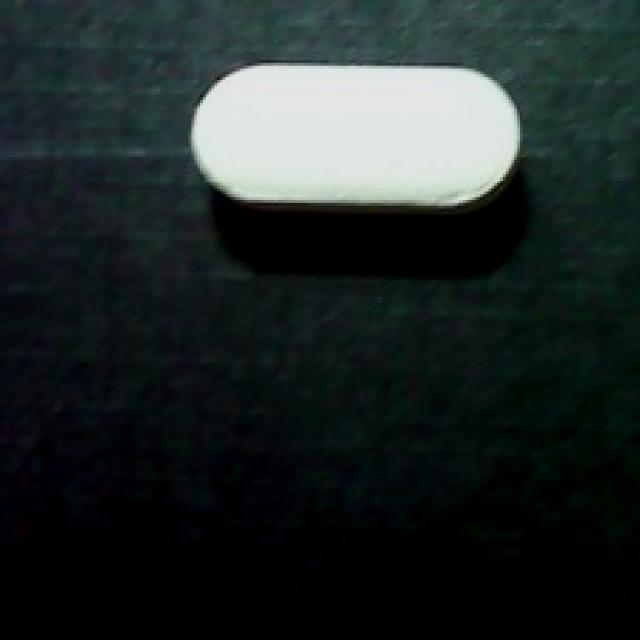no-defect: (160, 57, 534, 217)
